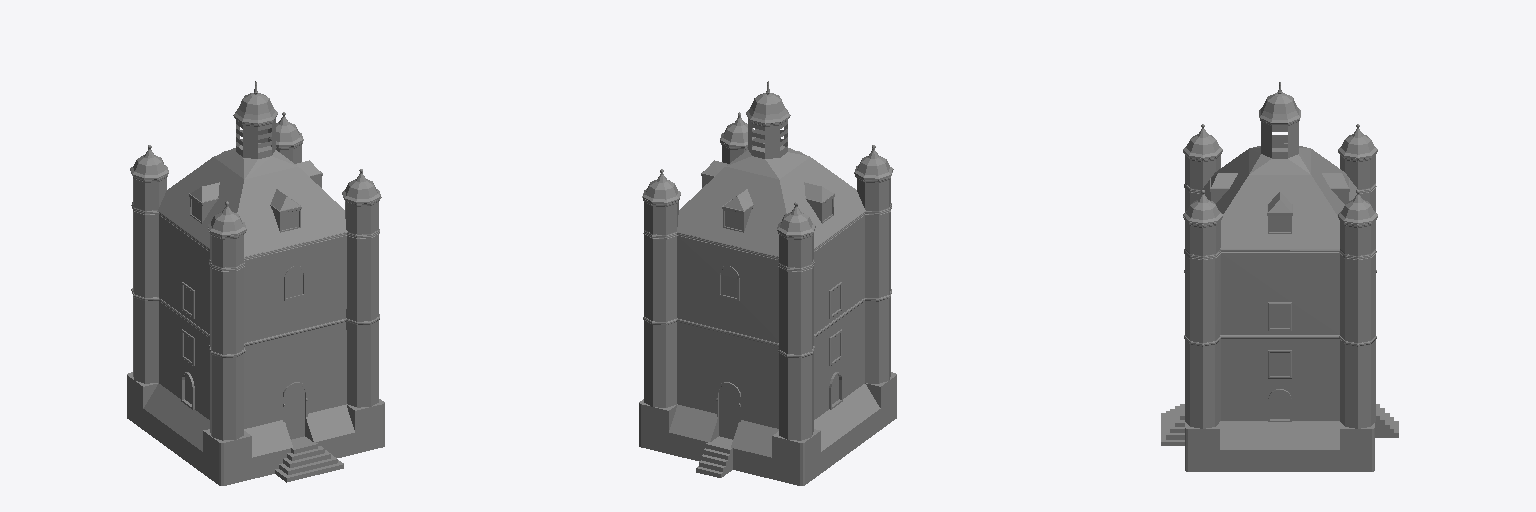
The model's file is Medieval_Sanctuary.obj.
The picture shows the model from 3 angles: view 1: azimuth 30°, elevation 25°; view 2: azimuth 150°, elevation 25°; view 3: azimuth 270°, elevation 25°; orthographic projection.
Visible parts, largest first — view 1: Mesh_Object; view 2: Mesh_Object; view 3: Mesh_Object.
Boxes of the visible parts, <box> form: Mesh_Object: <box>127,81,384,485</box>; Mesh_Object: <box>639,81,896,485</box>; Mesh_Object: <box>1161,82,1398,471</box>.
Size of the model in its own units: 13.63 by 26.94 by 16.56.